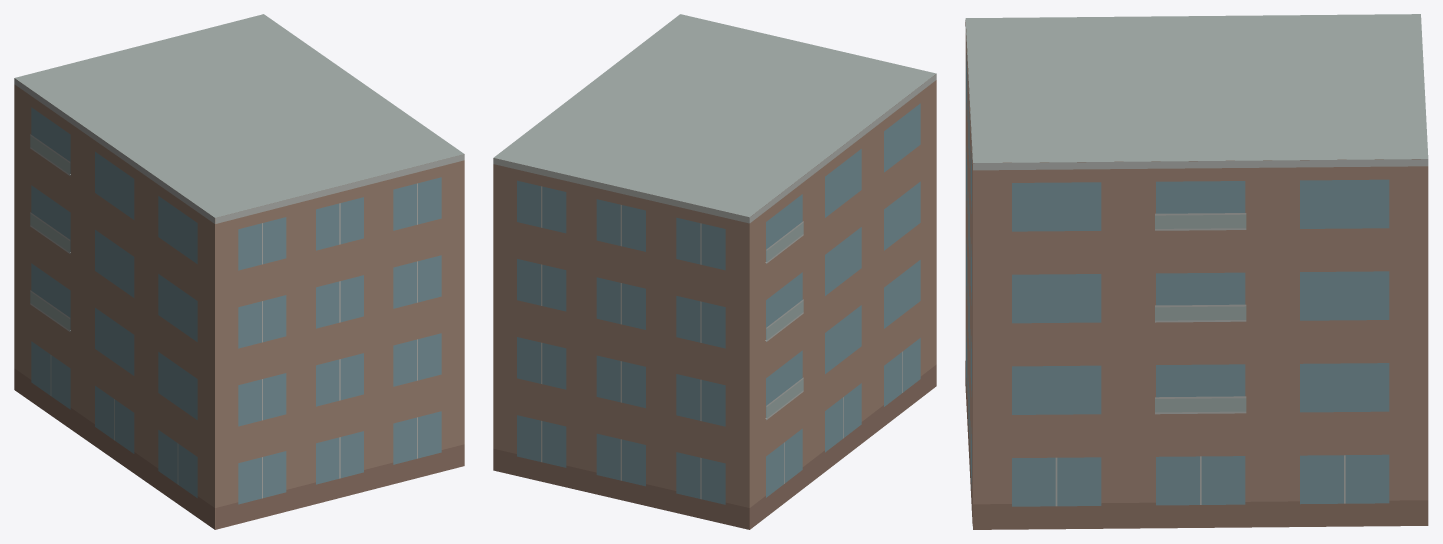
Rendered from residential-f66a5acc-b50a-49ab-b587-eab782e17152.glb.
3 views of the same model, side by side, from view 1: azimuth 30°, elevation 25°; view 2: azimuth 150°, elevation 25°; view 3: azimuth 270°, elevation 25° (orthographic). The views are drawn at different scales.
Visible parts, largest first — view 1: residential-f66a5acc-b50a-49ab-b587-eab782e17152.tmp; view 2: residential-f66a5acc-b50a-49ab-b587-eab782e17152.tmp; view 3: residential-f66a5acc-b50a-49ab-b587-eab782e17152.tmp.
Part boxes in pixels (left/top/right/bottom): residential-f66a5acc-b50a-49ab-b587-eab782e17152.tmp: left=14, top=14, right=464, bottom=529; residential-f66a5acc-b50a-49ab-b587-eab782e17152.tmp: left=493, top=14, right=936, bottom=529; residential-f66a5acc-b50a-49ab-b587-eab782e17152.tmp: left=965, top=14, right=1428, bottom=529.
Size of the model in its own units: 10.65 by 12.2 by 13.96.
